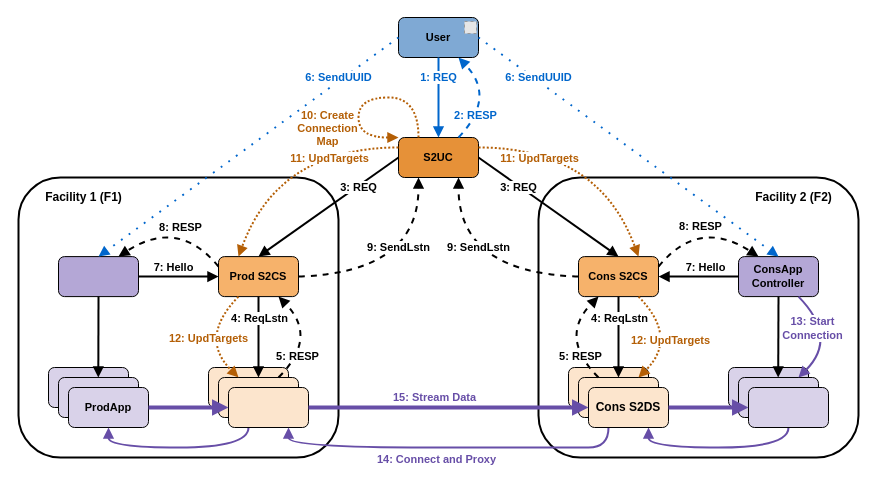
Some shapes in this 876 by 495 pixel diagram are drawn without their labels. Grey dashed boxes stand in for pictures. Here are the shapes that lost their labels. From the top down, the centre of each, then its label:
(98,276): ProdApp Controller
(268,407): Prod S2DS
(788,407): ConsApp
